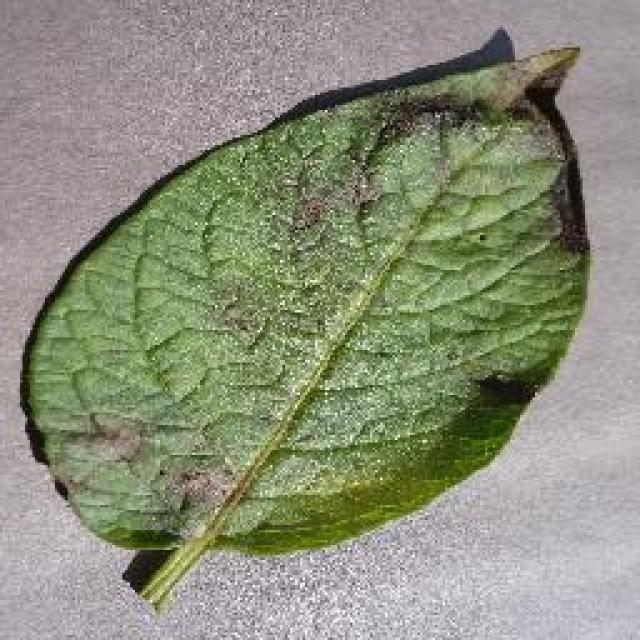late_blight: (15, 25, 595, 600)
